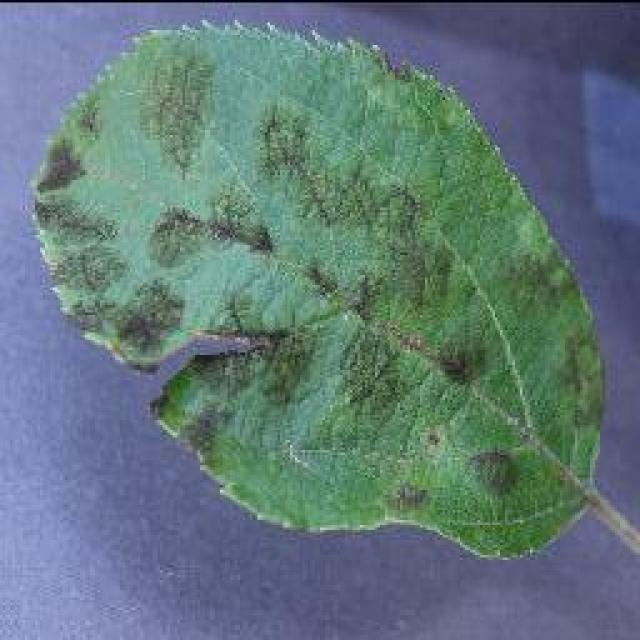apple scab disease: (22, 18, 638, 562)
